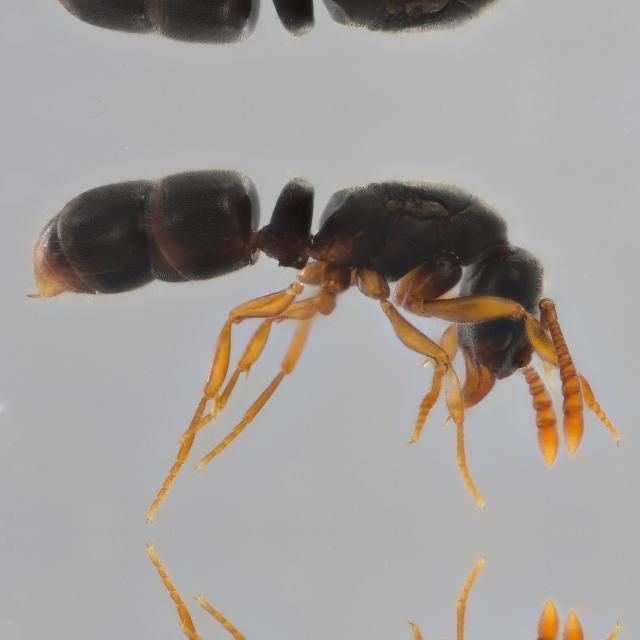Ponera: (18, 106, 618, 508), (18, 0, 618, 106), (18, 556, 618, 640)
